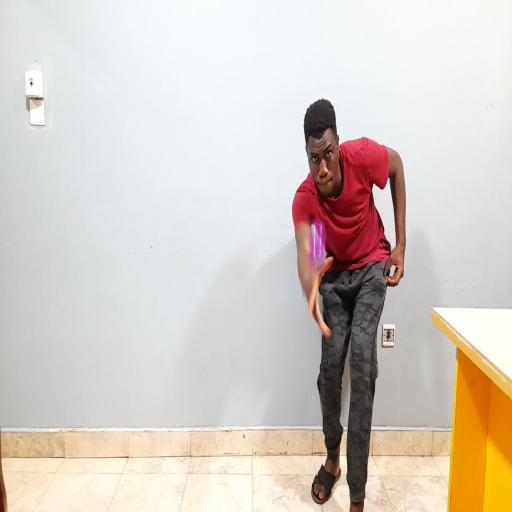plastic-ball: (309, 223, 327, 270)
